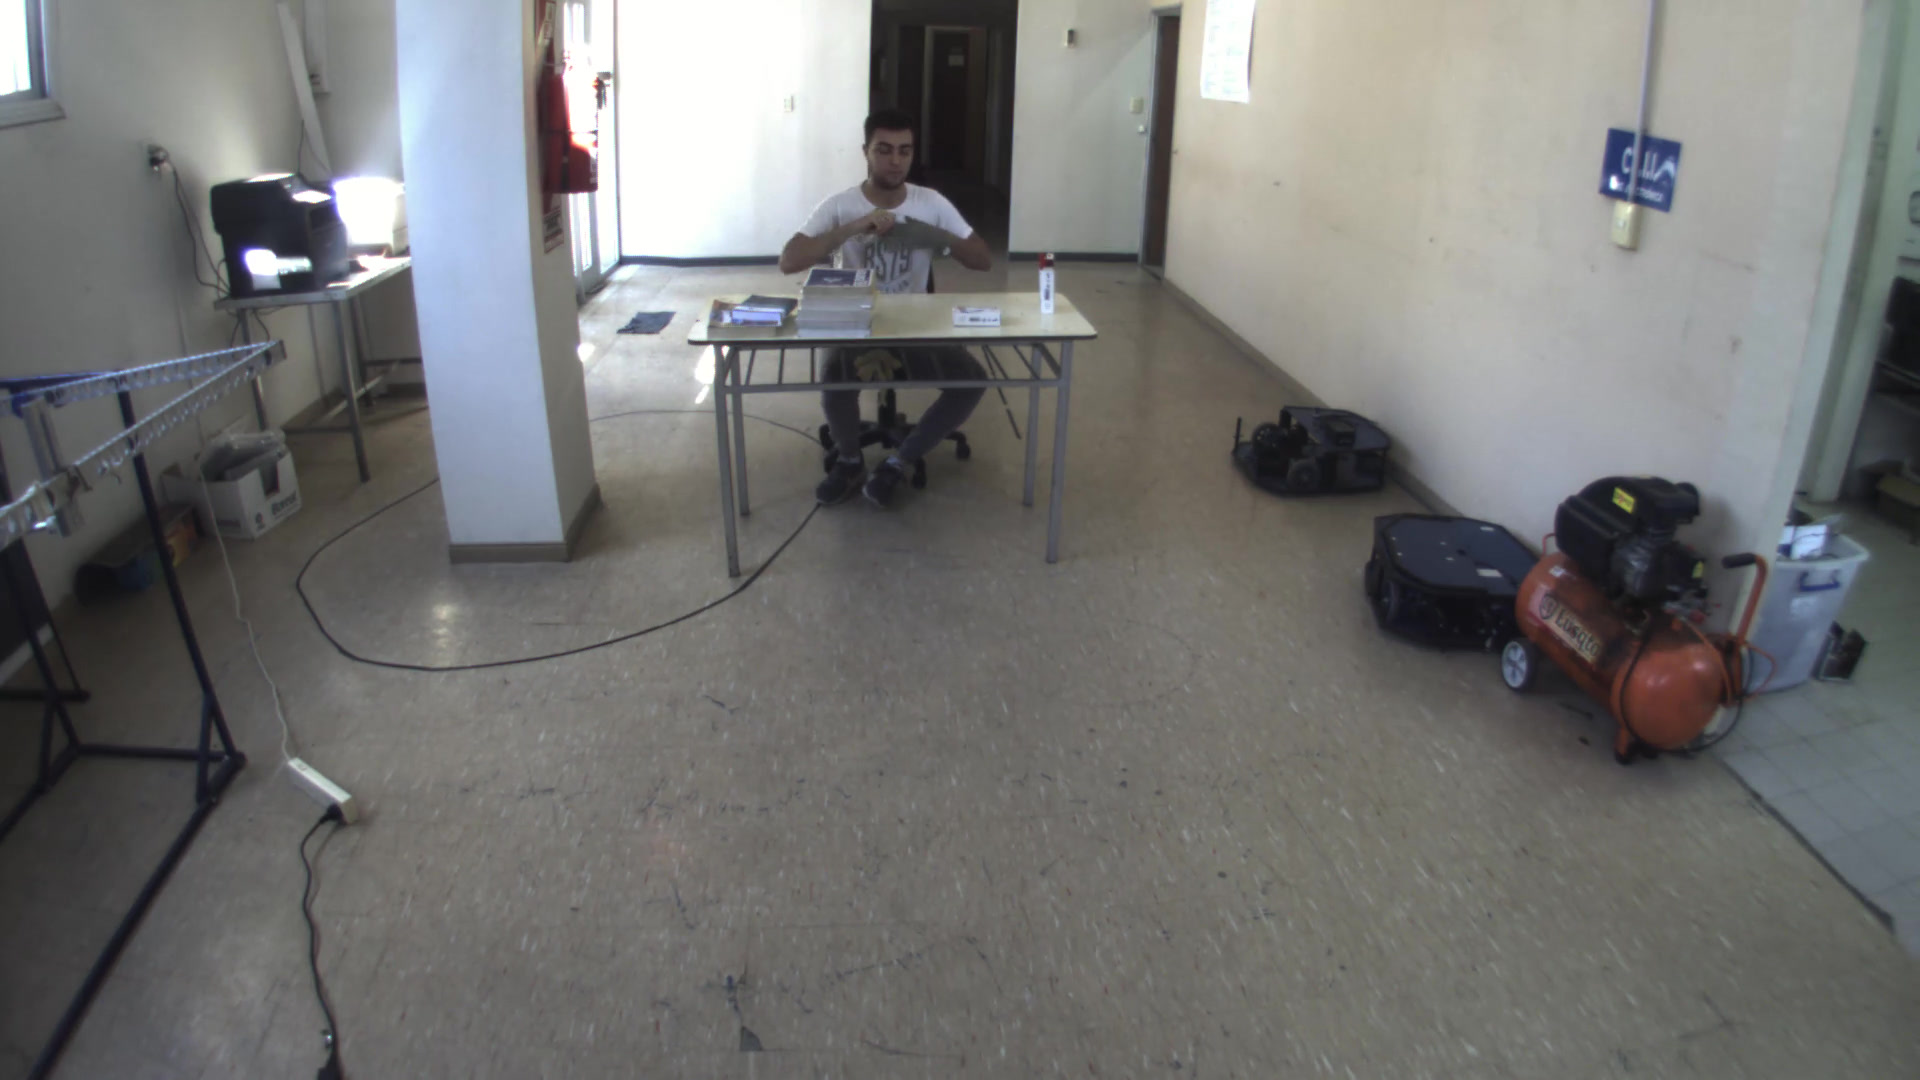hand: (887, 214, 942, 248), (858, 208, 895, 231)
